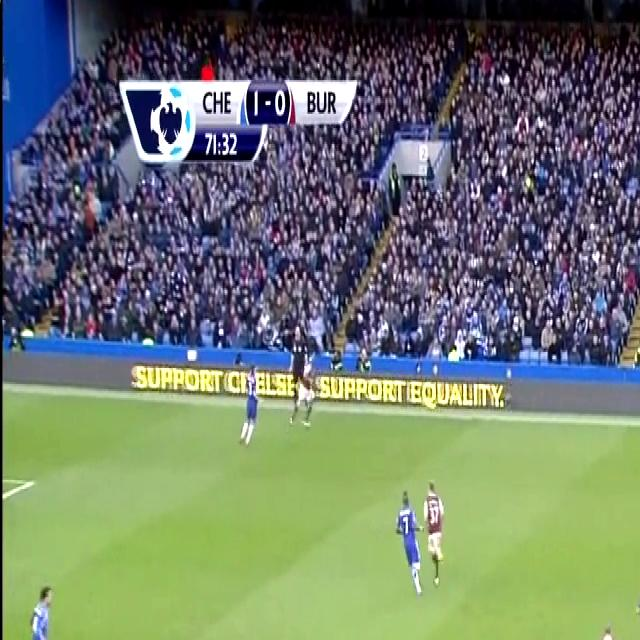referee: (286, 325, 316, 429), (276, 629, 323, 640)
soccer-player: (390, 479, 429, 598), (419, 471, 450, 594), (9, 578, 59, 640), (236, 361, 262, 452), (580, 613, 625, 640), (632, 563, 640, 640)
